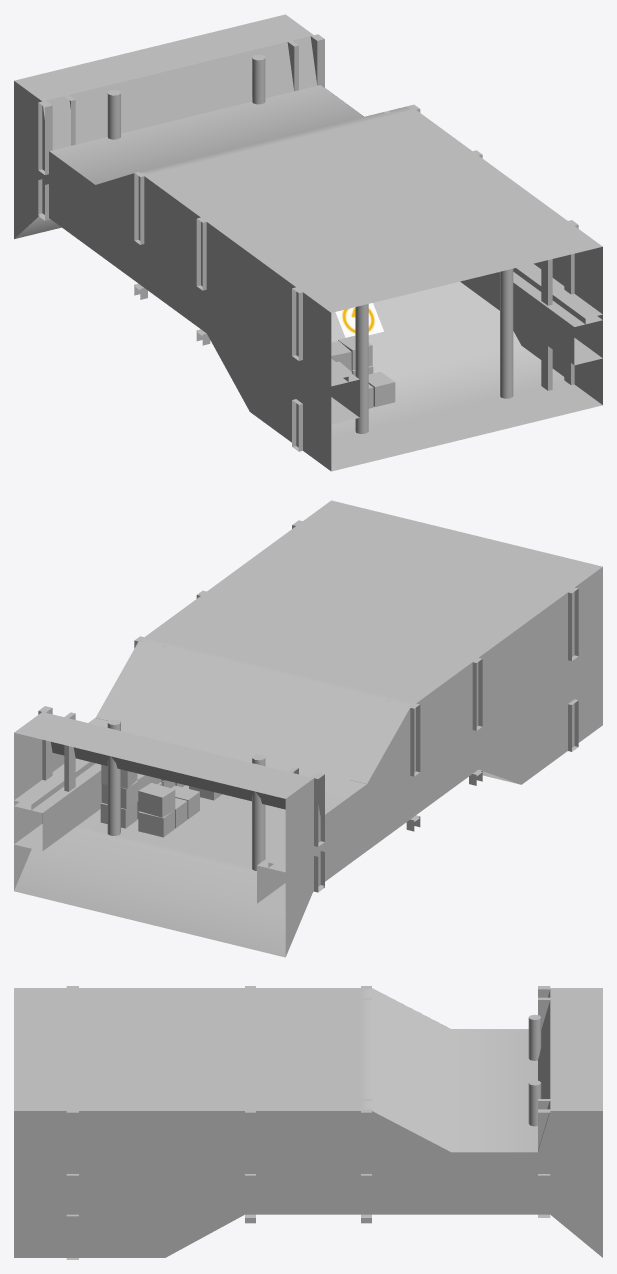
The picture shows the model from 3 angles, top to bottom: view 1: azimuth 30°, elevation 25°; view 2: azimuth 150°, elevation 25°; view 3: azimuth 270°, elevation 25°; orthographic projection. The views are drawn at different scales.
Visible parts, largest first — view 1: tube_B06; view 2: tube_B06; view 3: tube_B06.
Part boxes in pixels (bbox=[...]): tube_B06: bbox=[14, 14, 602, 471]; tube_B06: bbox=[14, 500, 602, 957]; tube_B06: bbox=[14, 986, 602, 1259].
Bounding box in the file's own units: 10184 × 5514 × 20000.
